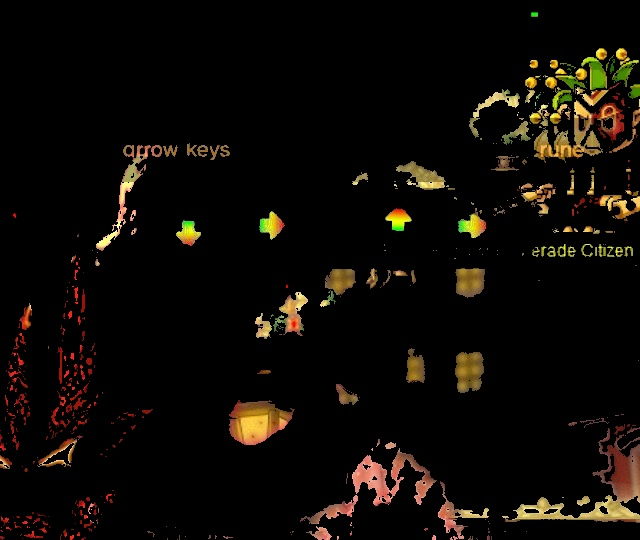down: (171, 216, 206, 253)
right: (250, 205, 293, 244), (452, 209, 497, 246)
up: (379, 199, 419, 238)
